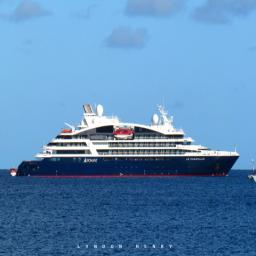cruises: (16, 98, 241, 182)
